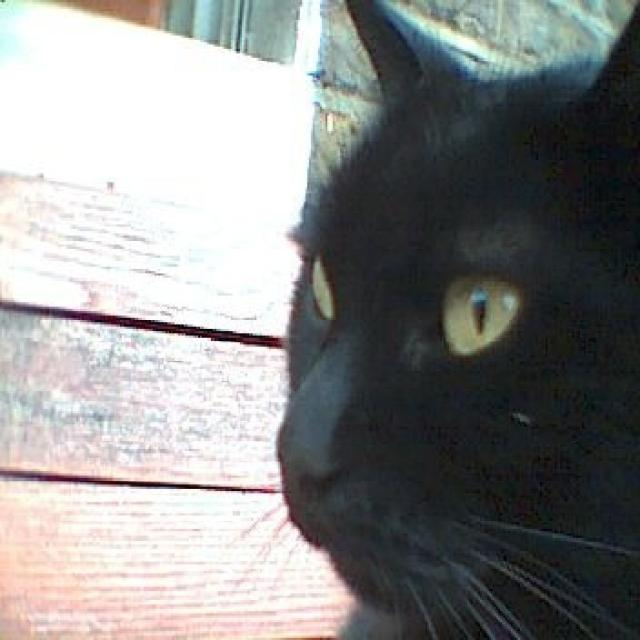cat: (244, 0, 638, 638)
